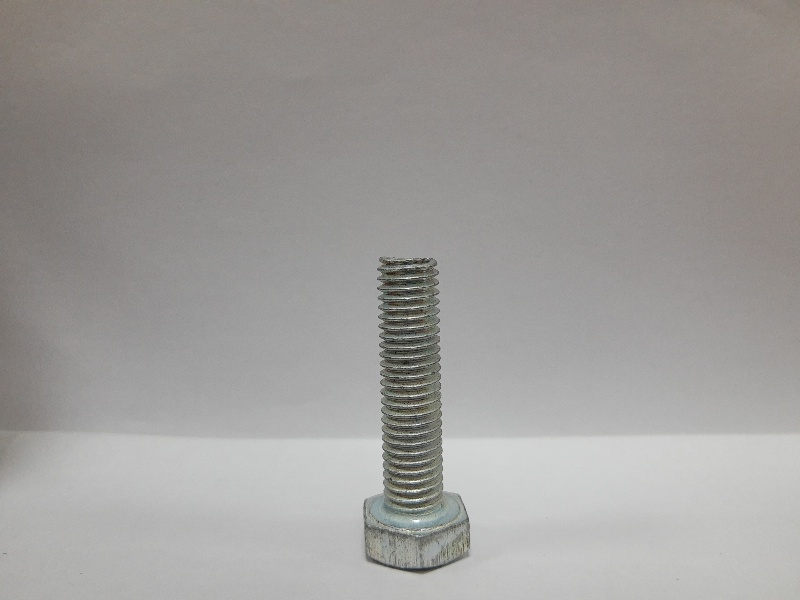pf: (356, 247, 475, 573)
